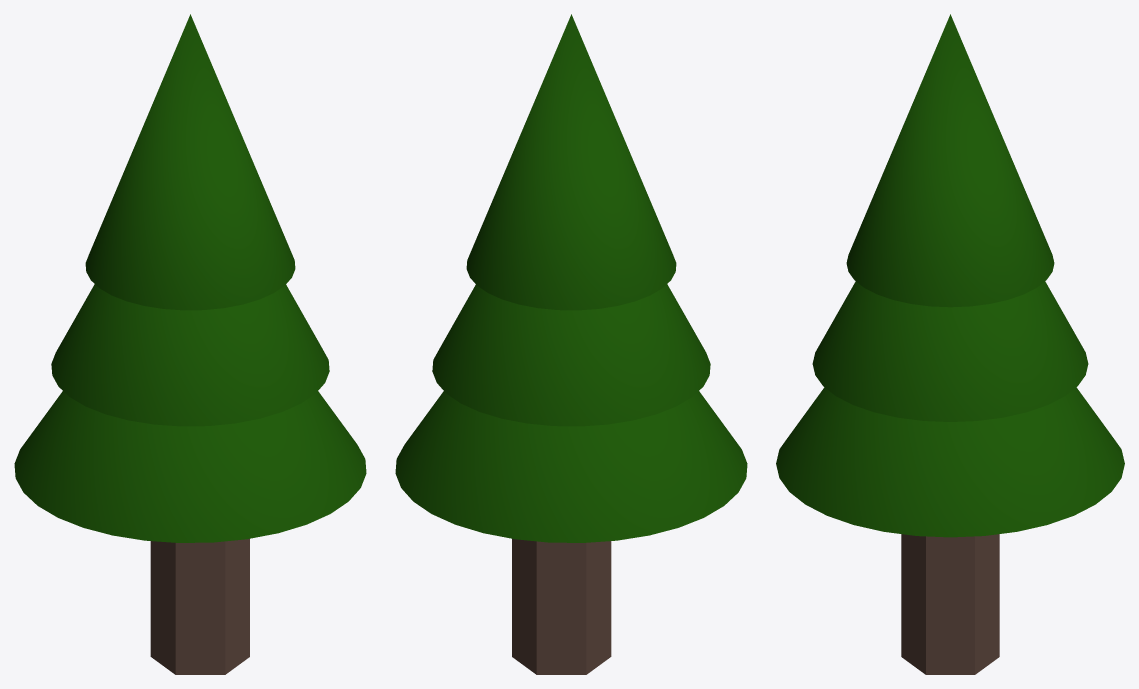
Rendered from seperatedTree.fbx.
3 renders of one model, left to right at view 1: azimuth 30°, elevation 25°; view 2: azimuth 150°, elevation 25°; view 3: azimuth 270°, elevation 25°, orthographic.
Visible parts, largest first — view 1: Cylinder.002; view 2: Cylinder.002; view 3: Cylinder.002.
Part boxes in pixels (bbox=[...]): Cylinder.002: bbox=[14, 14, 366, 674]; Cylinder.002: bbox=[395, 14, 747, 674]; Cylinder.002: bbox=[776, 14, 1124, 674].
Bounding box in the file's own units: 68.45 × 138 × 68.45.
